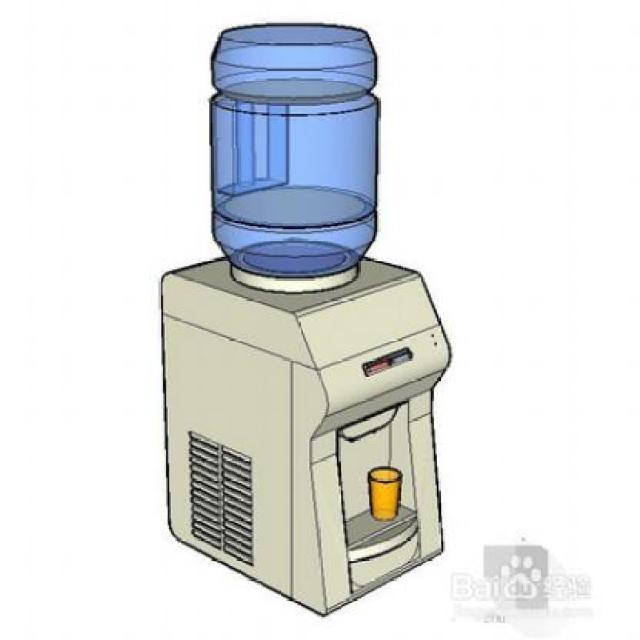cooler: (159, 17, 456, 618)
